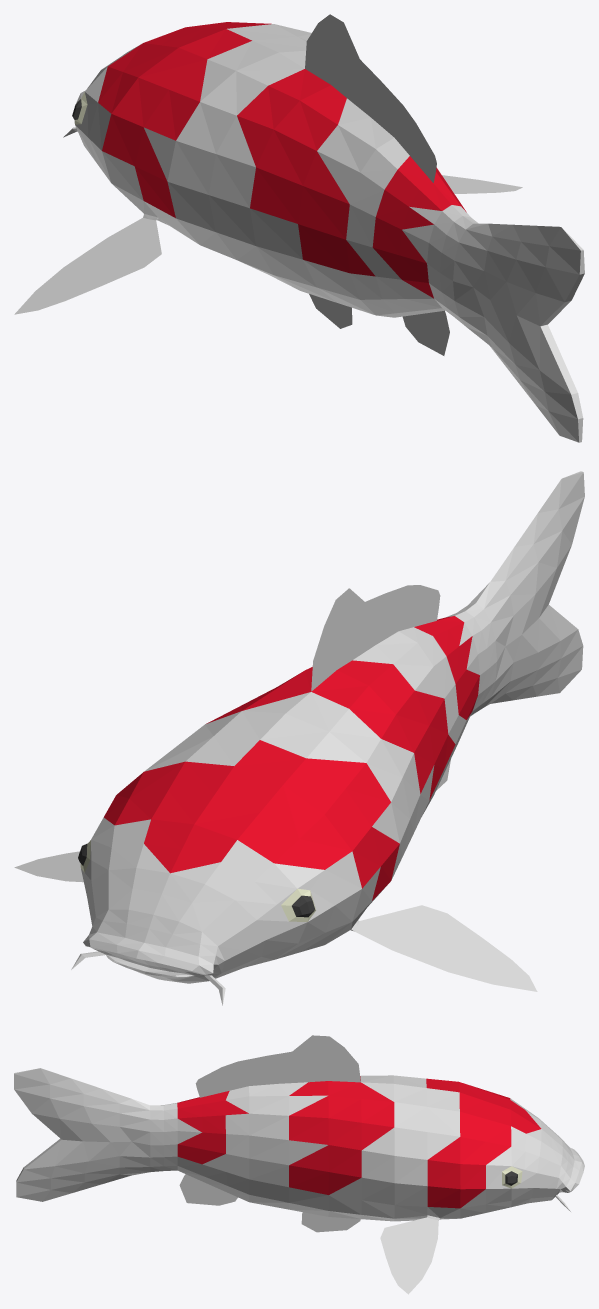
The model's file is mob.glb.
The picture shows the model from 3 angles, top to bottom: view 1: azimuth 30°, elevation 25°; view 2: azimuth 150°, elevation 25°; view 3: azimuth 270°, elevation 25°; orthographic projection. The views are drawn at different scales.
Visible parts, largest first — view 1: Koi.002_White_0; view 2: Koi.002_White_0; view 3: Koi.002_White_0.
Boxes of the visible parts, x1,y1,x2,y2 form: Koi.002_White_0: (14,14,584,442); Koi.002_White_0: (14,471,584,1005); Koi.002_White_0: (14,1035,584,1294).
Bounding box in the file's own units: 2.52 × 1.45 × 3.81.
